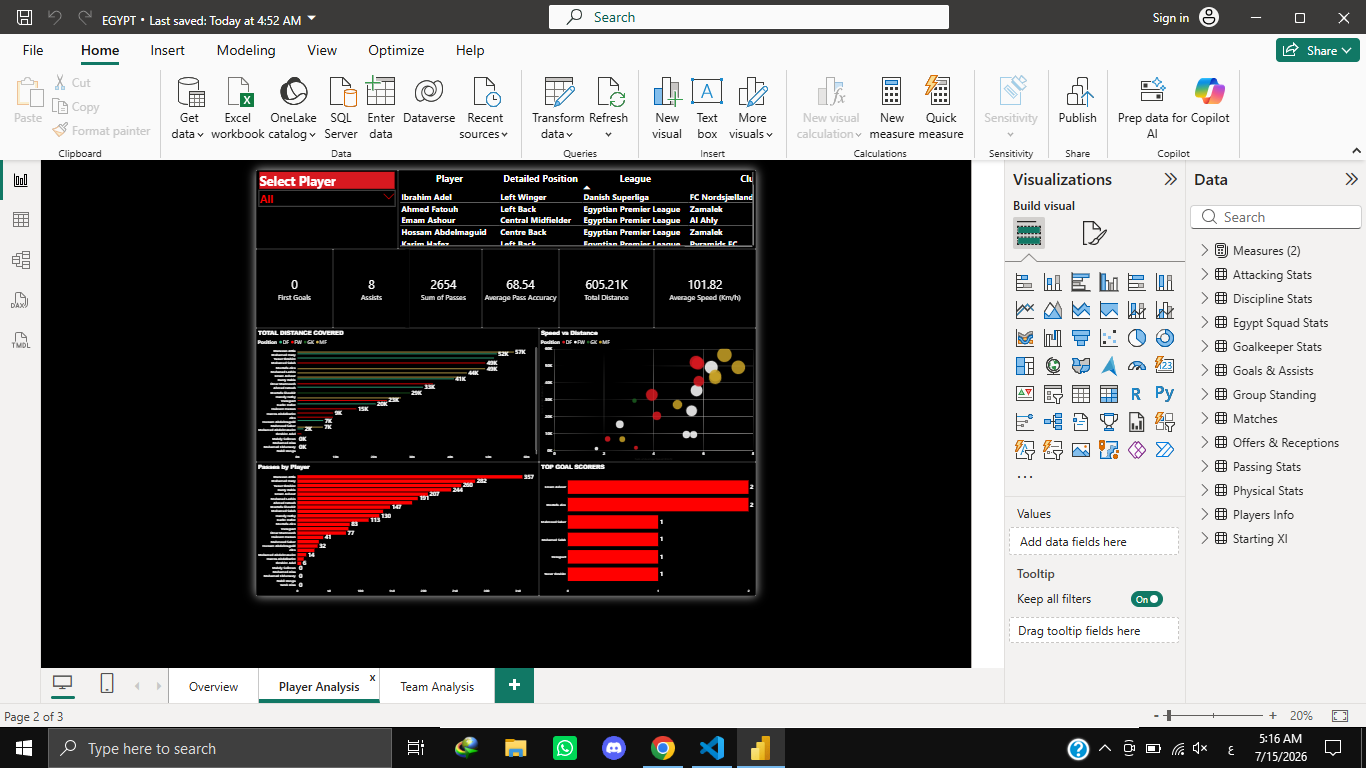

The page's visual inventory and layout, read from the dashboard file:
{"tool":"powerbi","page":{"name":"Player Analysis","canvas":[2500,2130],"ordinal":1},"visuals":[{"type":"slicer","fields":{"Values":["Physical Stats.Player"]},"box":[0,0,710,395],"z":0},{"type":"clusteredBarChart","title":"TOTAL DISTANCE COVERED","fields":{"Category":["Physical Stats.Player"],"Y":["Sum(Physical Stats.Total Distance)"],"Series":["Physical Stats.Position"]},"box":[0,790,1415,670],"z":1000},{"type":"scatterChart","title":"Speed vs Distance","fields":{"X":["Sum(Physical Stats.Average Speed (Km/h))"],"Y":["Sum(Physical Stats.Total Distance)"],"Size":["Sum(Physical Stats.Sprints)"],"Category":["Physical Stats.Player"],"Series":["Physical Stats.Position"]},"box":[1415,790,1085,670],"z":2000},{"type":"clusteredBarChart","title":"Passes by Player","fields":{"Category":["Passing Stats.Player"],"Y":["Sum(Passing Stats.Passes)"]},"box":[0,1460,1415,670],"z":3000},{"type":"tableEx","fields":{"Values":["Players Info.Player","Players Info.Detailed Position","Players Info.League","Players Info.Club","Players Info.Foot"]},"box":[710,0,1790,395],"z":4000},{"type":"card","fields":{"Values":["Min(Attacking Stats.Goals)"]},"box":[0,395,385,395],"z":5000},{"type":"card","fields":{"Values":["Sum(Passing Stats.Passes)"]},"box":[745,395,385,395],"z":6000},{"type":"card","fields":{"Values":["Sum(Physical Stats.Average Speed (Km/h))"]},"box":[1990,395,510,395],"z":7000},{"type":"card","fields":{"Values":["Sum(Attacking Stats.Assists)"]},"box":[385,395,385,395],"z":8000},{"type":"card","fields":{"Values":["Measures (2).Average Pass Accuracy"]},"box":[1130,395,385,395],"z":9000},{"type":"card","fields":{"Values":["Sum(Physical Stats.Total Distance)"]},"box":[1515,395,475,395],"z":10000},{"type":"barChart","title":"TOP GOAL SCORERS","fields":{"Category":["Goals & Assists.Scorer"],"Y":["CountNonNull(Goals & Assists.Match)"]},"box":[1415,1460,1085,670],"z":11000}]}

Visuals, with their boxes on the page's 2500x2130 design canvas (x1, y1, x2, y2). These are canvas units, not pixel positions in the 1366x768 screenshot, which may show the page scaled, cropped or inside an application window:
slicer - Physical Stats.Player: select_region(0, 0, 710, 395)
"TOTAL DISTANCE COVERED" clusteredBarChart: select_region(0, 790, 1415, 1460)
"Speed vs Distance" scatterChart: select_region(1415, 790, 2500, 1460)
"Passes by Player" clusteredBarChart: select_region(0, 1460, 1415, 2130)
tableEx - Players Info.Player x Players Info.Detailed Position: select_region(710, 0, 2500, 395)
card - Min(Attacking Stats.Goals): select_region(0, 395, 385, 790)
card - Sum(Passing Stats.Passes): select_region(745, 395, 1130, 790)
card - Sum(Physical Stats.Average Speed (Km/h)): select_region(1990, 395, 2500, 790)
card - Sum(Attacking Stats.Assists): select_region(385, 395, 770, 790)
card - Measures (2).Average Pass Accuracy: select_region(1130, 395, 1515, 790)
card - Sum(Physical Stats.Total Distance): select_region(1515, 395, 1990, 790)
"TOP GOAL SCORERS" barChart: select_region(1415, 1460, 2500, 2130)
